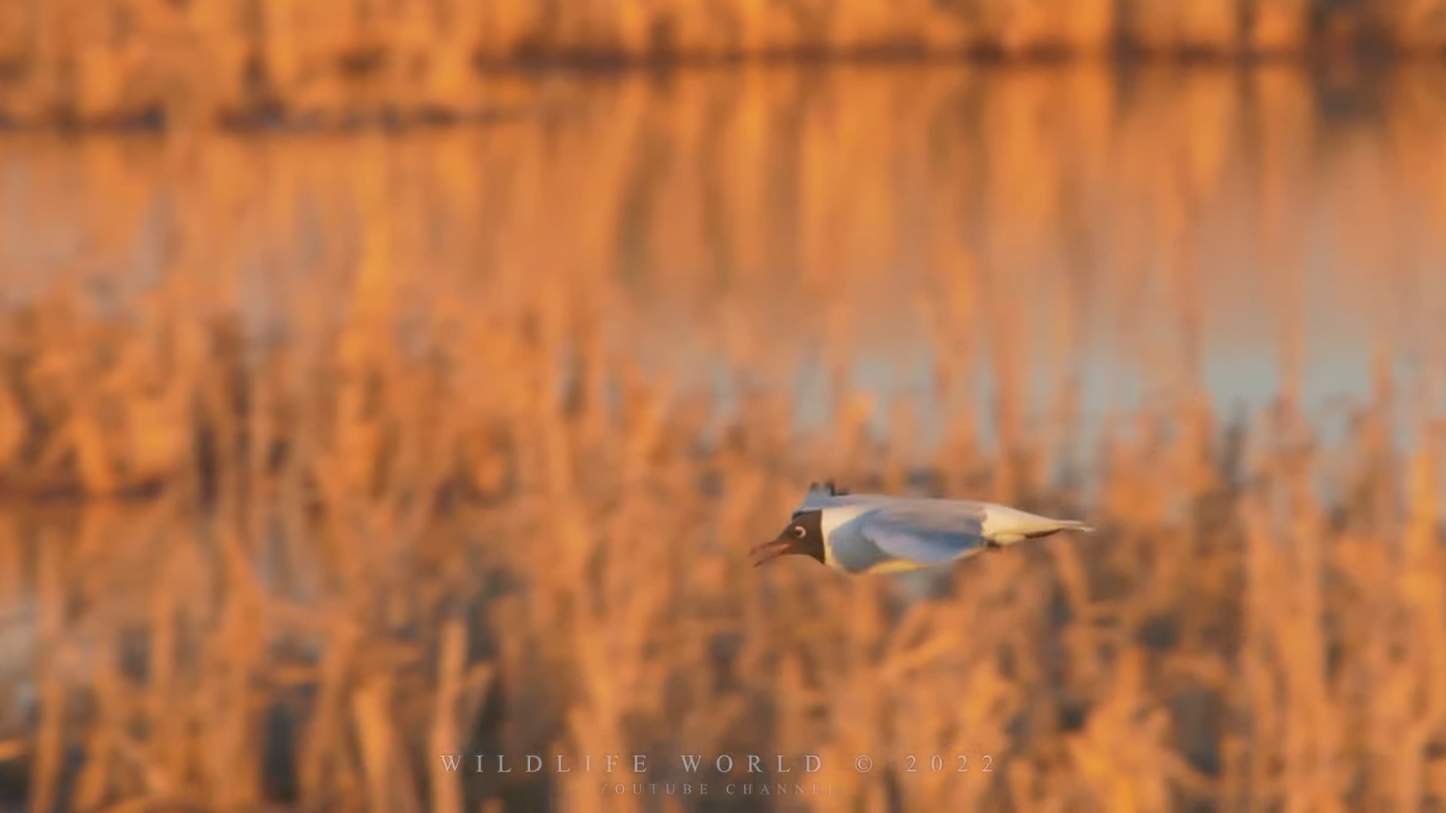not_drone: (750, 463, 1088, 586)
